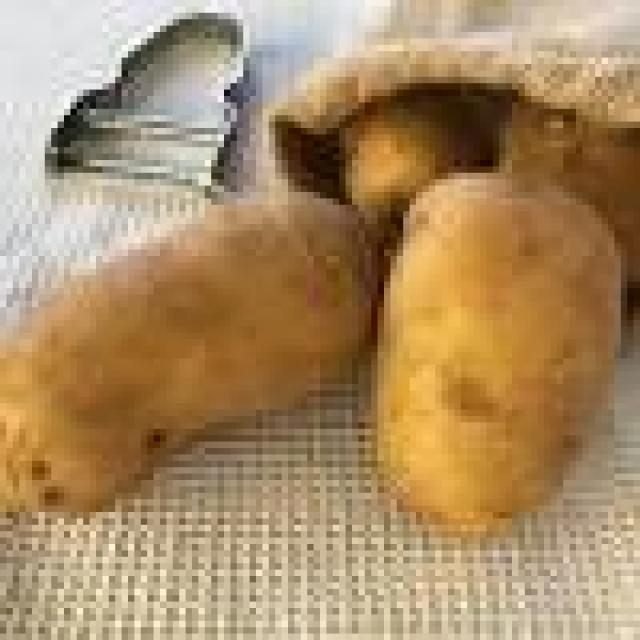Potato: (1, 199, 394, 538), (371, 154, 640, 531)
